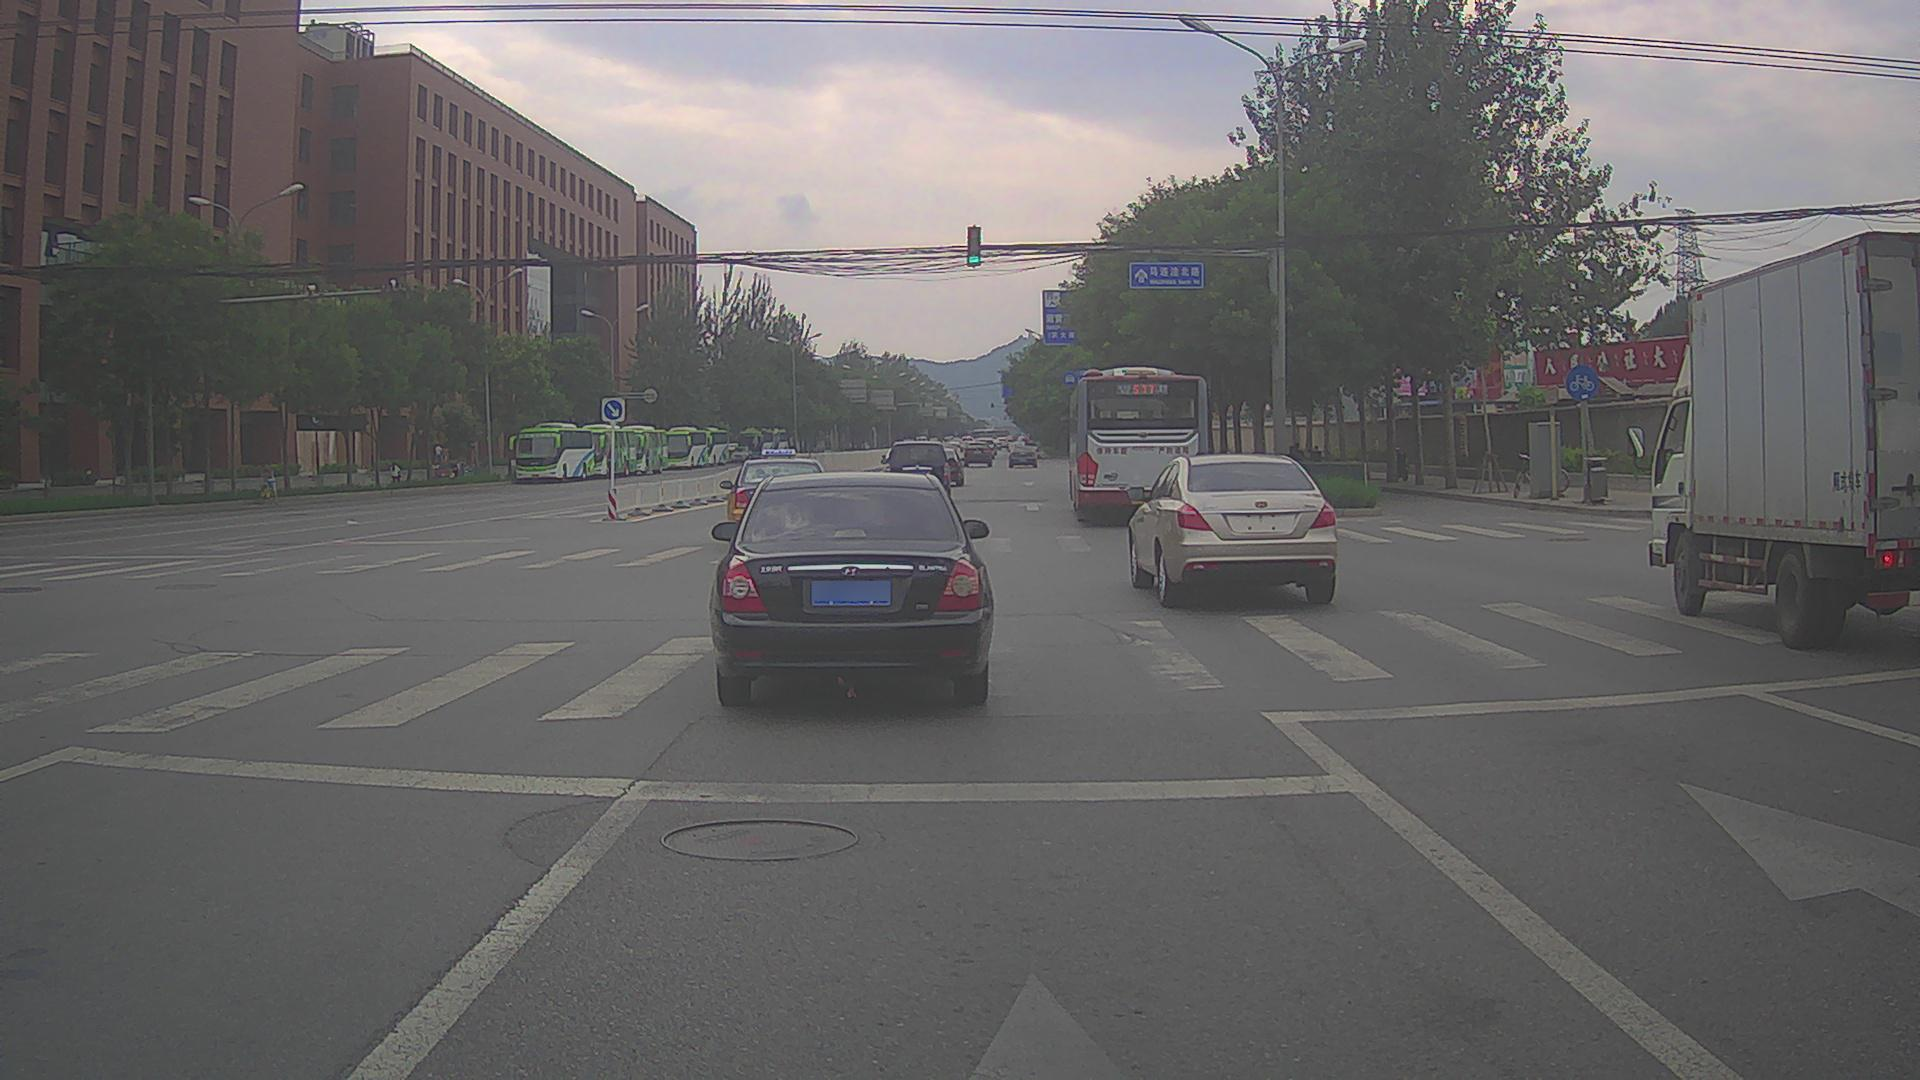bus: (1068, 366, 1211, 522), (509, 422, 597, 482), (576, 424, 637, 477), (616, 425, 668, 475), (657, 426, 709, 469), (690, 427, 730, 466), (734, 425, 776, 462)
car: (709, 470, 995, 707), (1126, 453, 1338, 608), (719, 448, 841, 546), (880, 440, 956, 504), (924, 446, 965, 486), (963, 440, 993, 467), (1007, 444, 1038, 468), (730, 446, 753, 464)
cyclist: (258, 461, 277, 501)
ignore: (943, 428, 1034, 450), (431, 446, 465, 477), (1393, 446, 1407, 482), (772, 428, 788, 449), (846, 440, 871, 451), (728, 442, 738, 452)
pedestrian: (1290, 442, 1304, 476), (83, 466, 95, 500), (388, 460, 401, 490), (1310, 444, 1321, 477)
truck: (1625, 230, 1918, 648)
